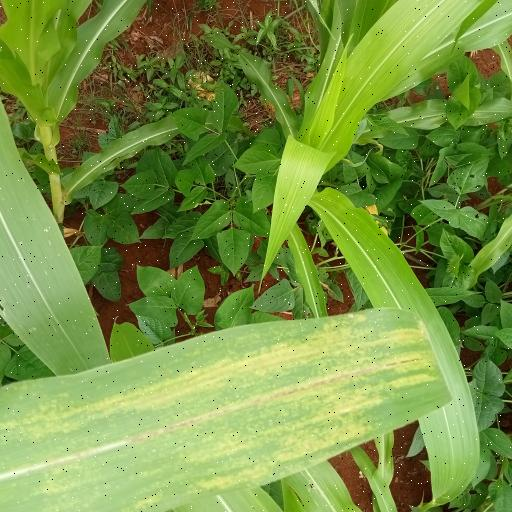Corn_Brown_Spots: (4, 306, 451, 504)
